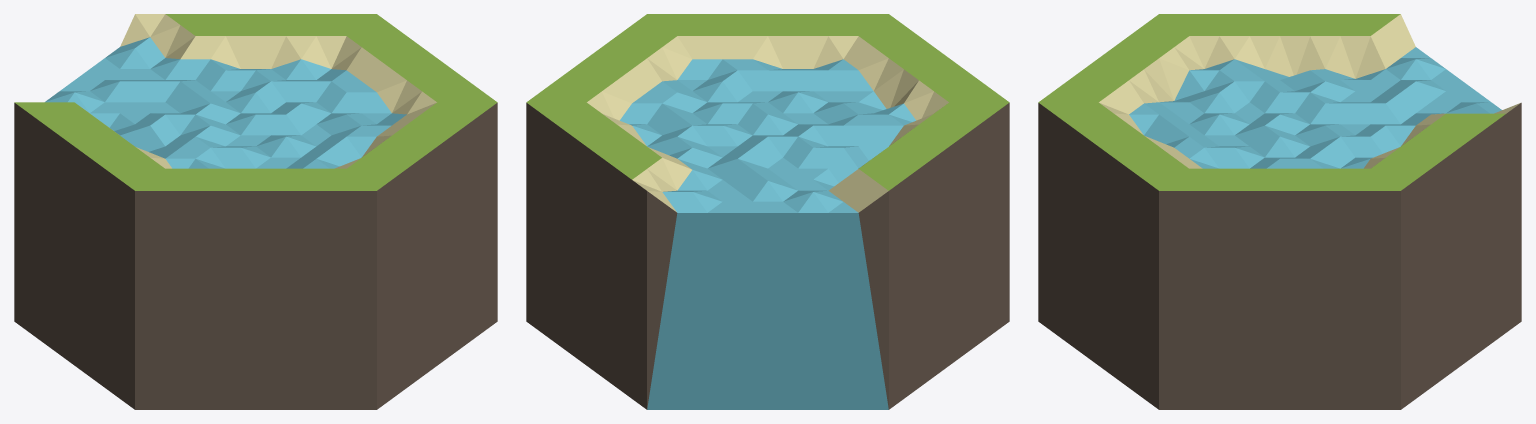
Rendered from coast5.fbx.
3 views of the same model, side by side, from view 1: azimuth 30°, elevation 25°; view 2: azimuth 150°, elevation 25°; view 3: azimuth 270°, elevation 25° (orthographic).
Parts seen in each view (by area): view 1: Cylinder; view 2: Cylinder; view 3: Cylinder.
Part boxes in pixels (<box>): Cylinder: <box>14,14,497,409</box>; Cylinder: <box>526,14,1009,409</box>; Cylinder: <box>1038,14,1521,409</box>.
Bounding box in the file's own units: 1.73 × 1 × 2.
